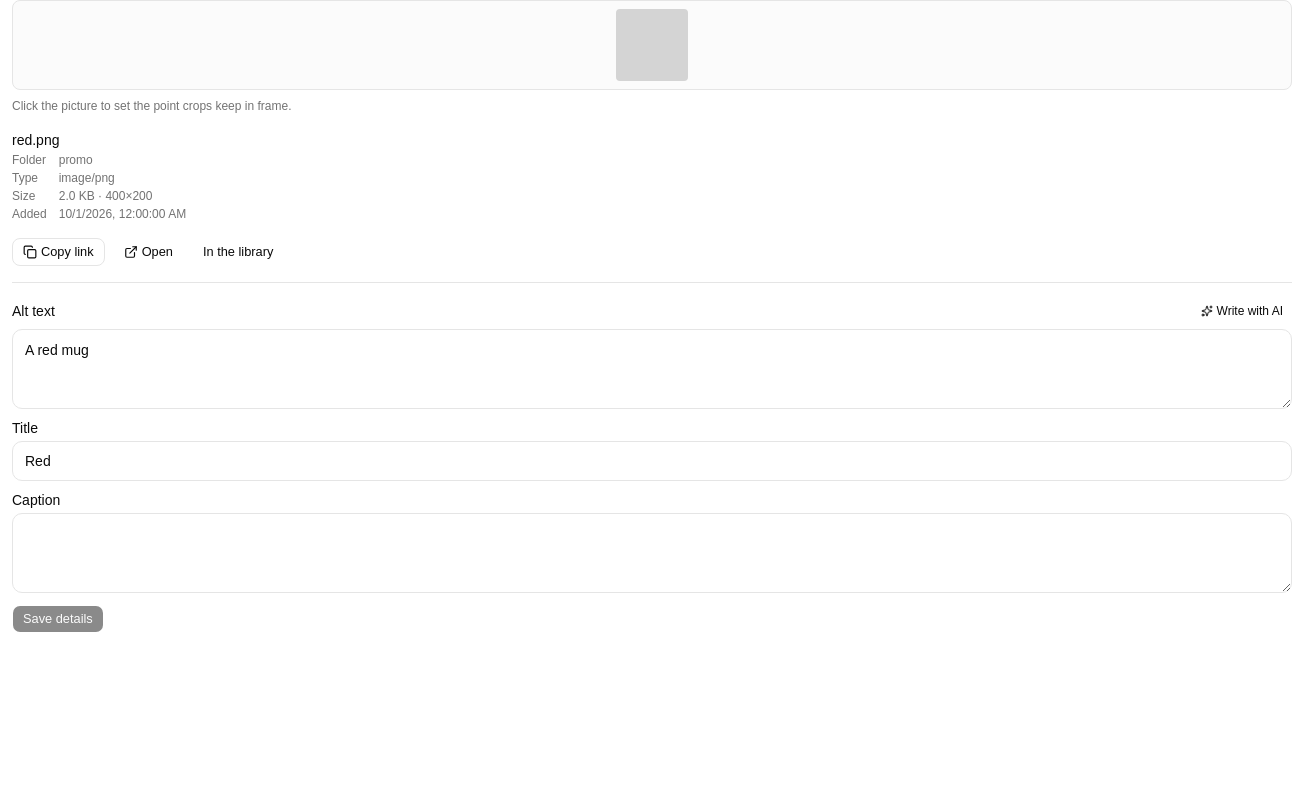
Scenario: AssetPanel › writes alt text with AI into the draft without saving it
The image size is (1304, 800).
What coordinates should you click on to do the following:
click the button "Write with AI"
I would click on:
 (1242, 311)
Its box is [1192, 299, 1292, 323].
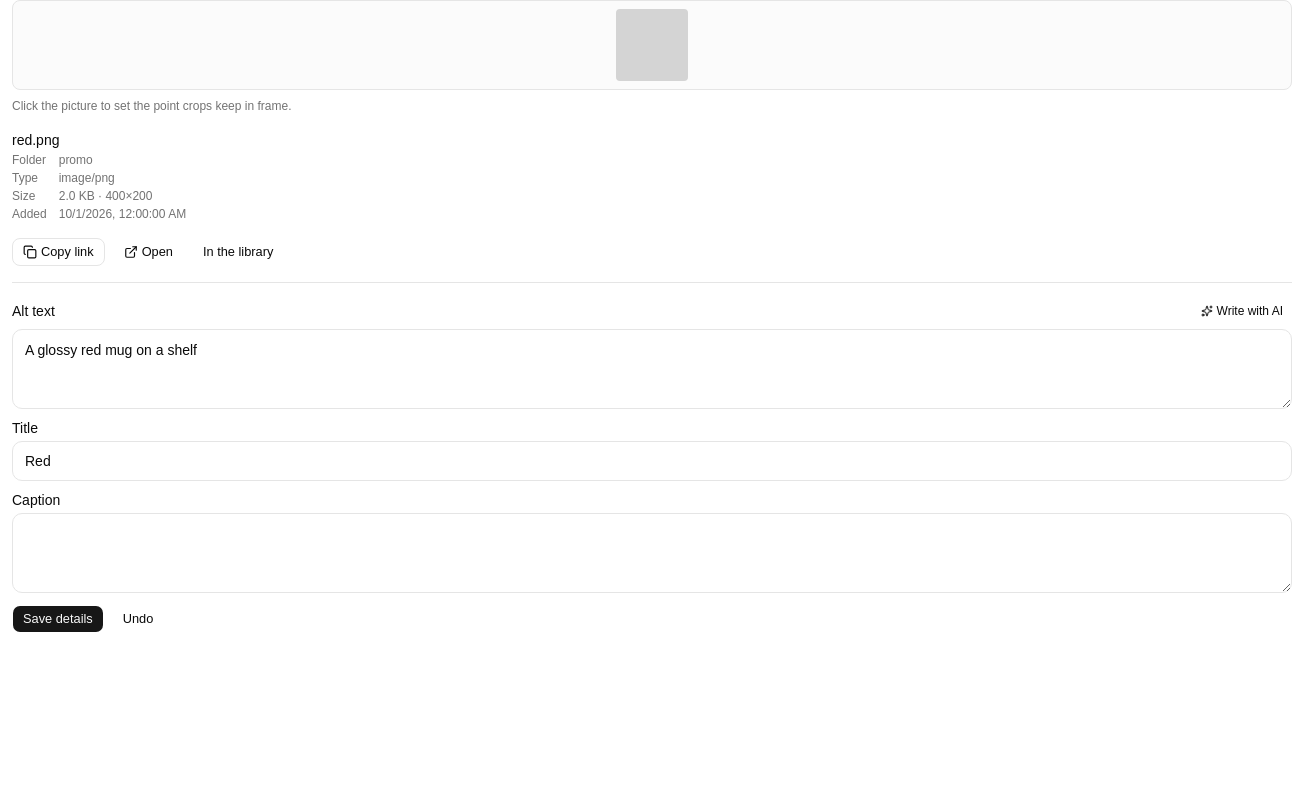
Result: the text box labelled "Alt text" holds "A glossy red mug on a shelf" at [12, 329, 1292, 409]
Result: the button "Save details" is enabled at [12, 605, 104, 633]
